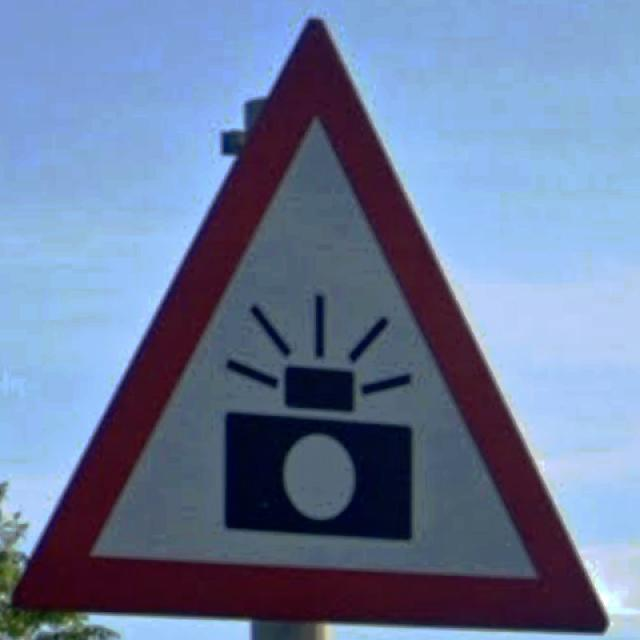speedcamera: (15, 20, 605, 631)
